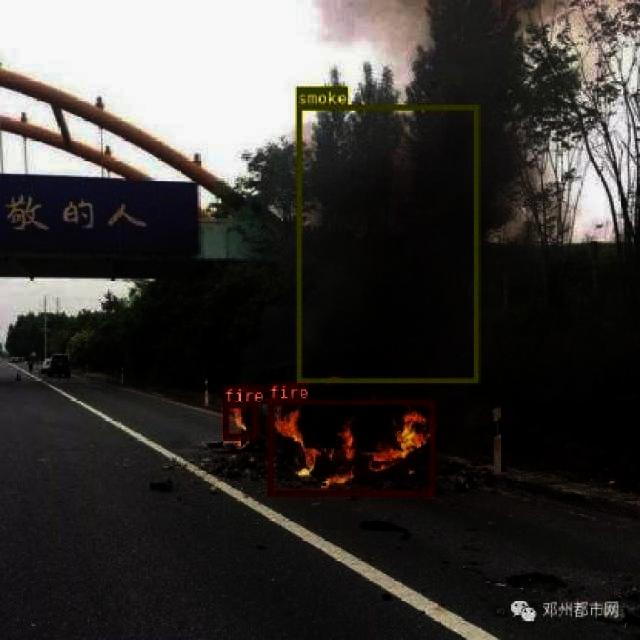fire: (268, 398, 434, 496), (221, 401, 257, 437)
smoke: (296, 104, 478, 382)
